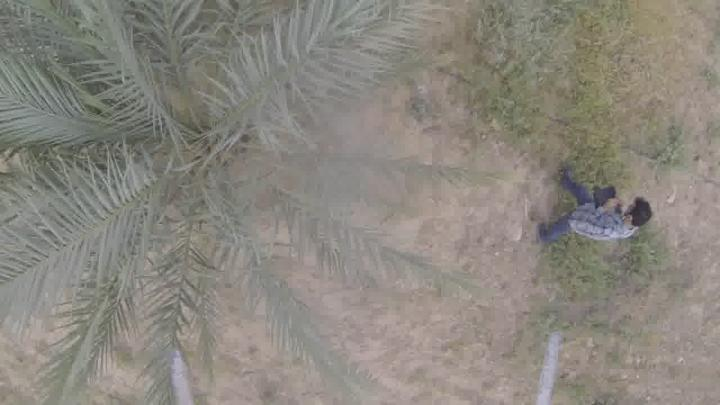Date-Palm-Crown: (26, 0, 350, 290)
